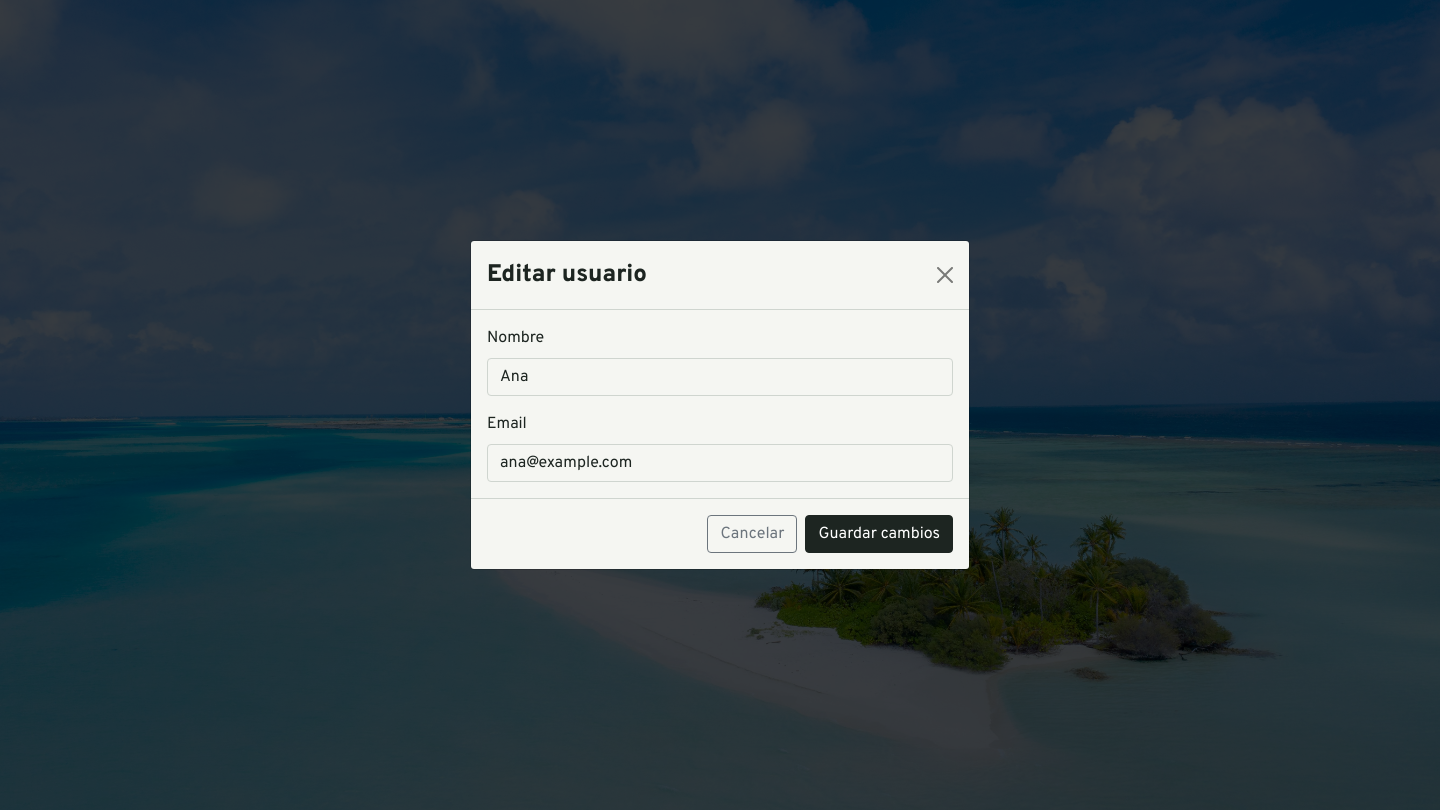
Test: B7 EditUserModal › other failures are shown in the modal, which stays open
The width and height of the screenshot is (1440, 810).
Click the button "Guardar cambios". click: [879, 534]
box: [806,515,953,553]
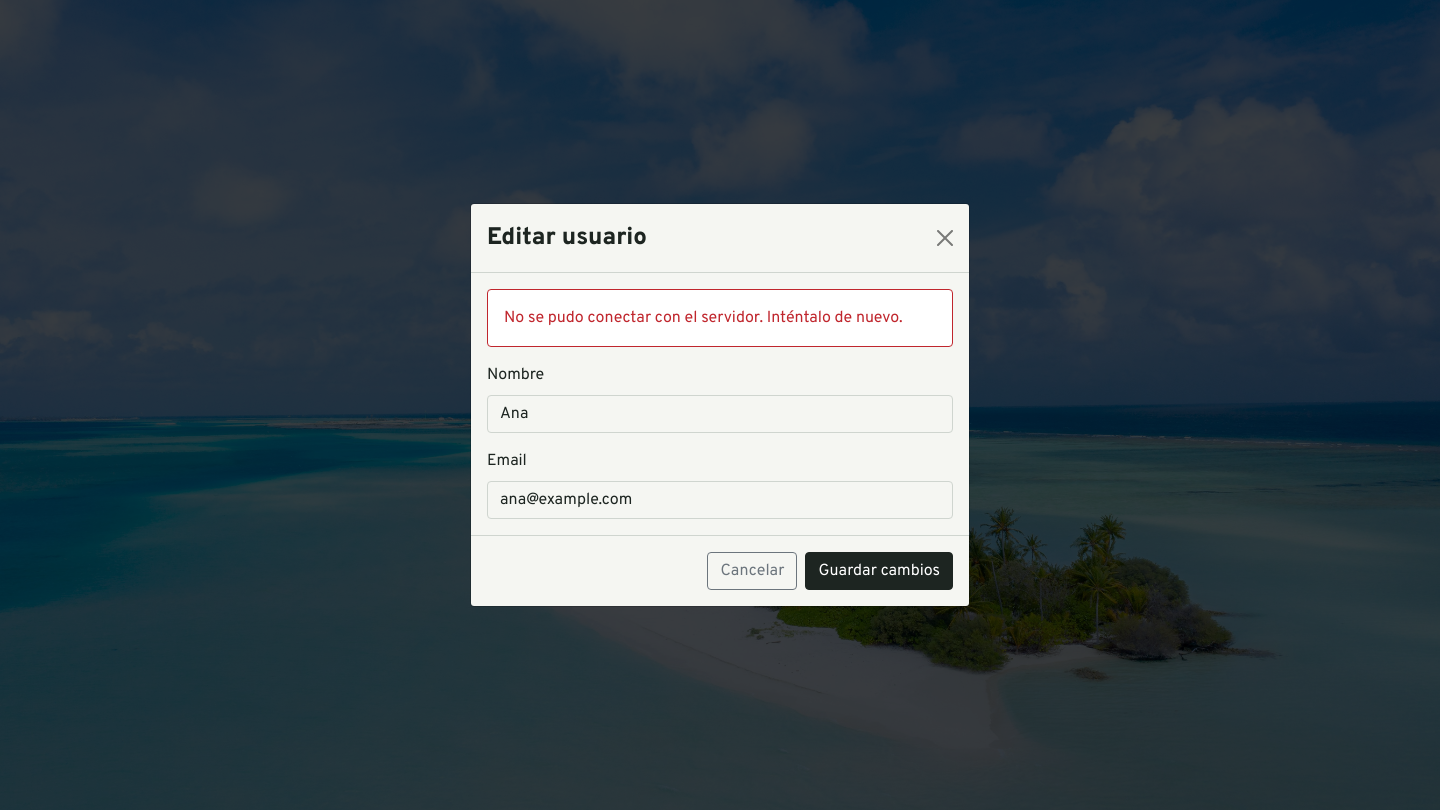
Check: the dialog "Editar usuario" is shown, box [470,203,970,607]
Check: the text "No se pudo conectar con el servidor. Inténtalo de nuevo." is shown, box [487,289,953,347]
